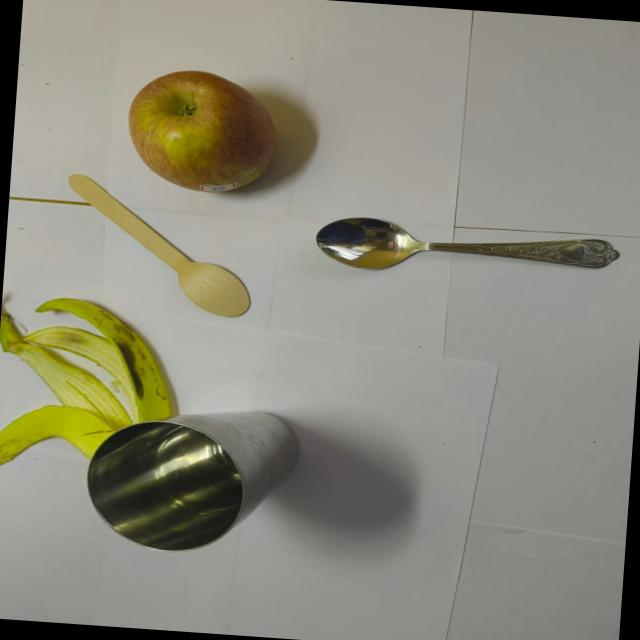Apple-Bio: (119, 63, 282, 198)
Banana-Bio: (0, 290, 189, 483)
Steel-NonBio: (77, 396, 304, 563), (310, 212, 624, 290)
Wooden Spoon-Bio: (55, 171, 262, 320)
